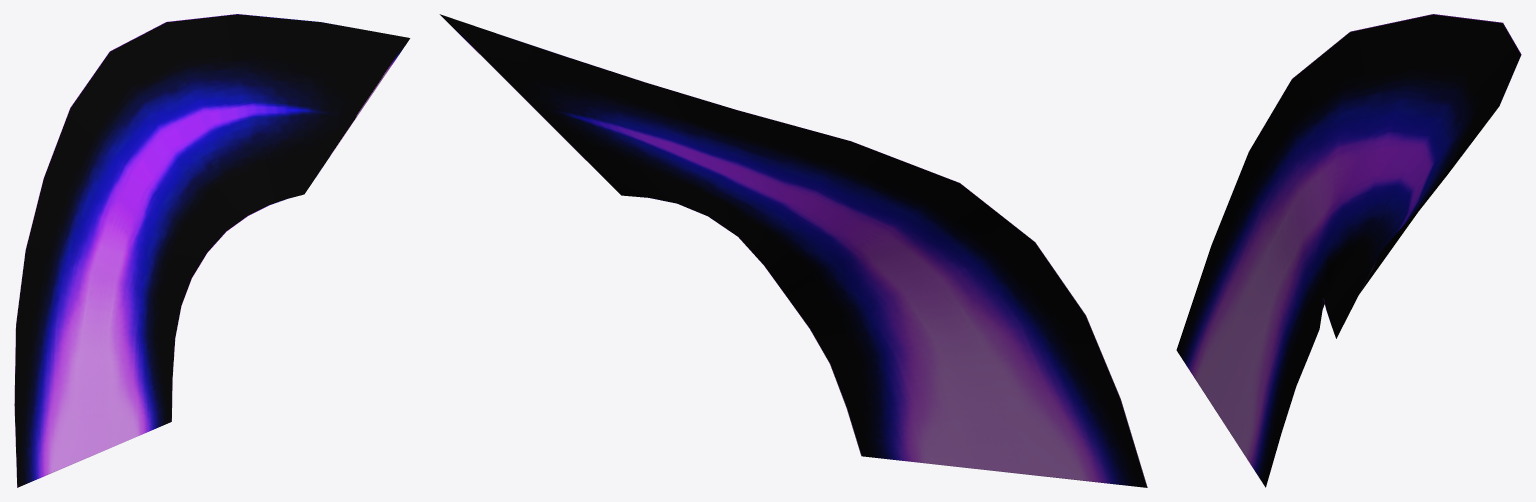
The model's file is effect_lvbu_bb_2.FBX.
3 renders of one model, left to right at view 1: azimuth 30°, elevation 25°; view 2: azimuth 150°, elevation 25°; view 3: azimuth 270°, elevation 25°, orthographic. The views are drawn at different scales.
Parts seen in each view (by area): view 1: effect_lvbu_bb_1; view 2: effect_lvbu_bb_1; view 3: effect_lvbu_bb_1.
Boxes of the visible parts, x1,y1,x2,y2 form: effect_lvbu_bb_1: (14, 14, 410, 487); effect_lvbu_bb_1: (439, 14, 1147, 487); effect_lvbu_bb_1: (1176, 14, 1521, 487).
Size of the model in its own units: 708 by 470 by 299.
2 materials, 2 textured.
